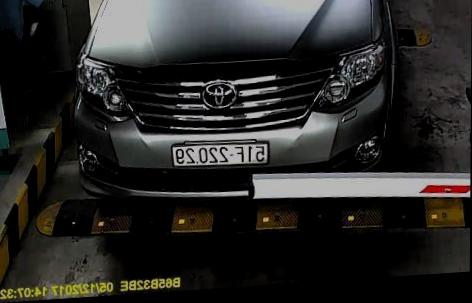License_Plate: (172, 136, 273, 172)
